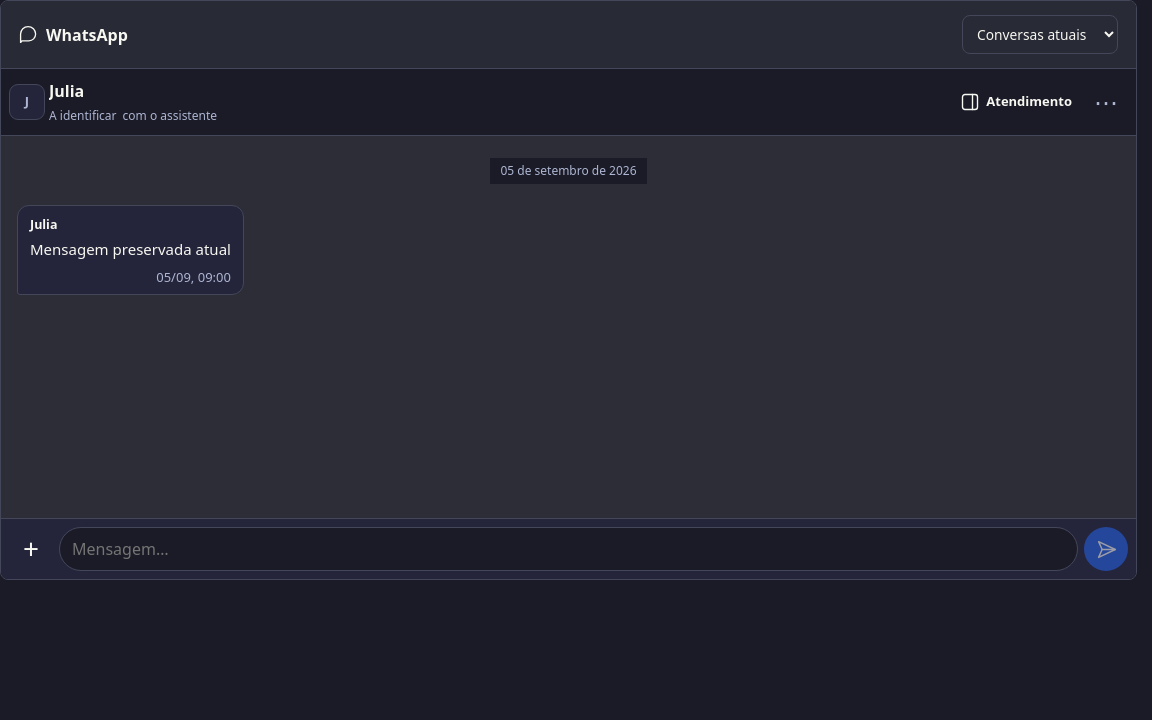
Scenario: empresa mostra Julia atual uma vez e consulta legado sem misturar mensagens nem perder rascunho
Expected: the element with test id "balao-m-atual" is shown, [17,200,244,300]
Type "Rascunho para Julia" into the text box named "Responder ao cliente" at (568,549), box [59,527,1078,571]
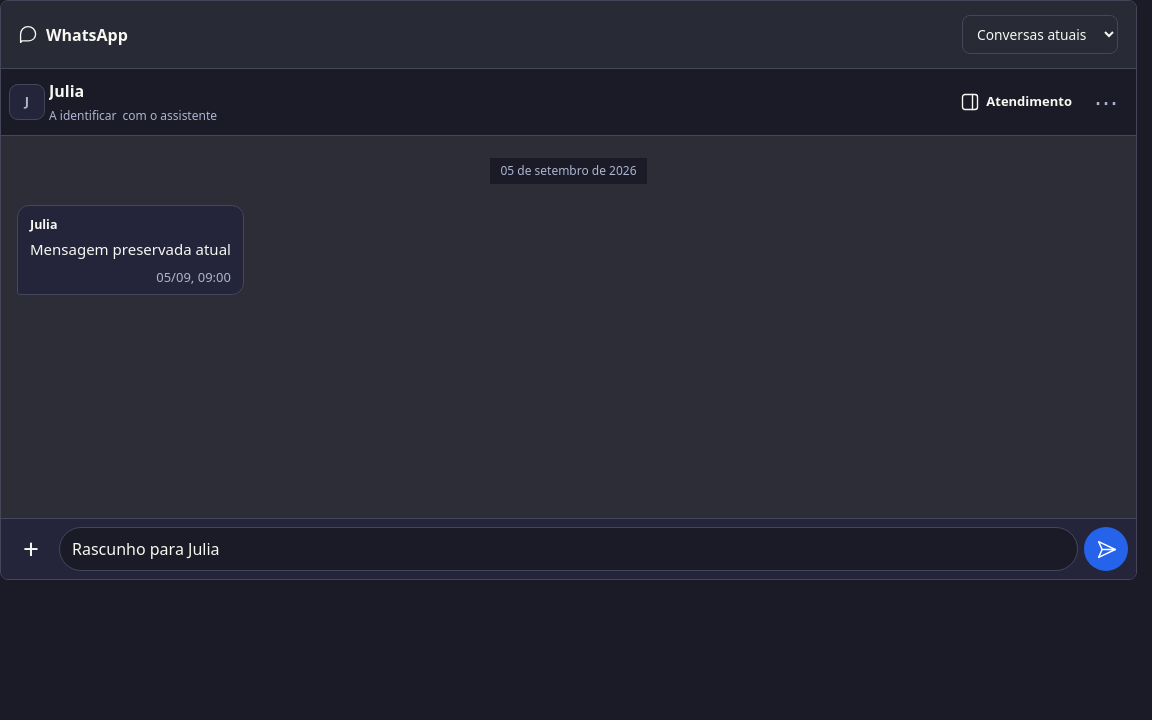
Select "Histórico anterior" in the dropdown named "Visualização das conversas da empresa" at (1040,34), box [962,15,1118,54]
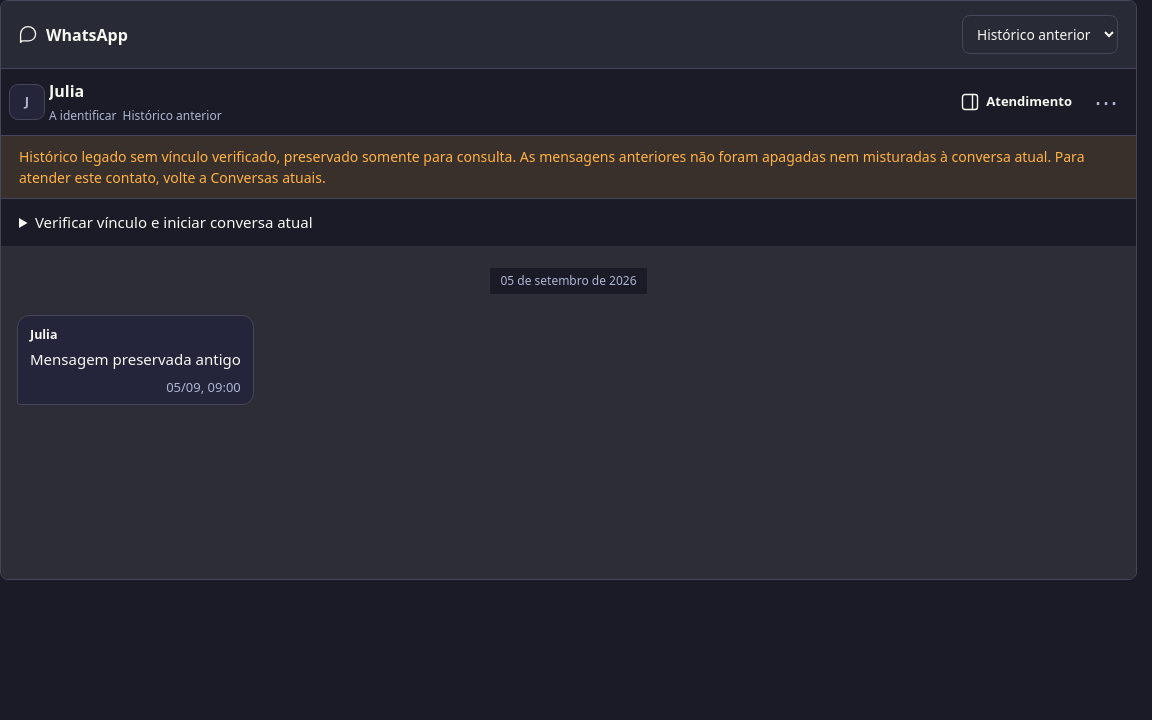
Expected: the element with test id "balao-m-antigo" is shown, [17,310,254,410]
Click the heading named "Mais ações da conversa" at (1106,102), box [1094,85,1118,118]
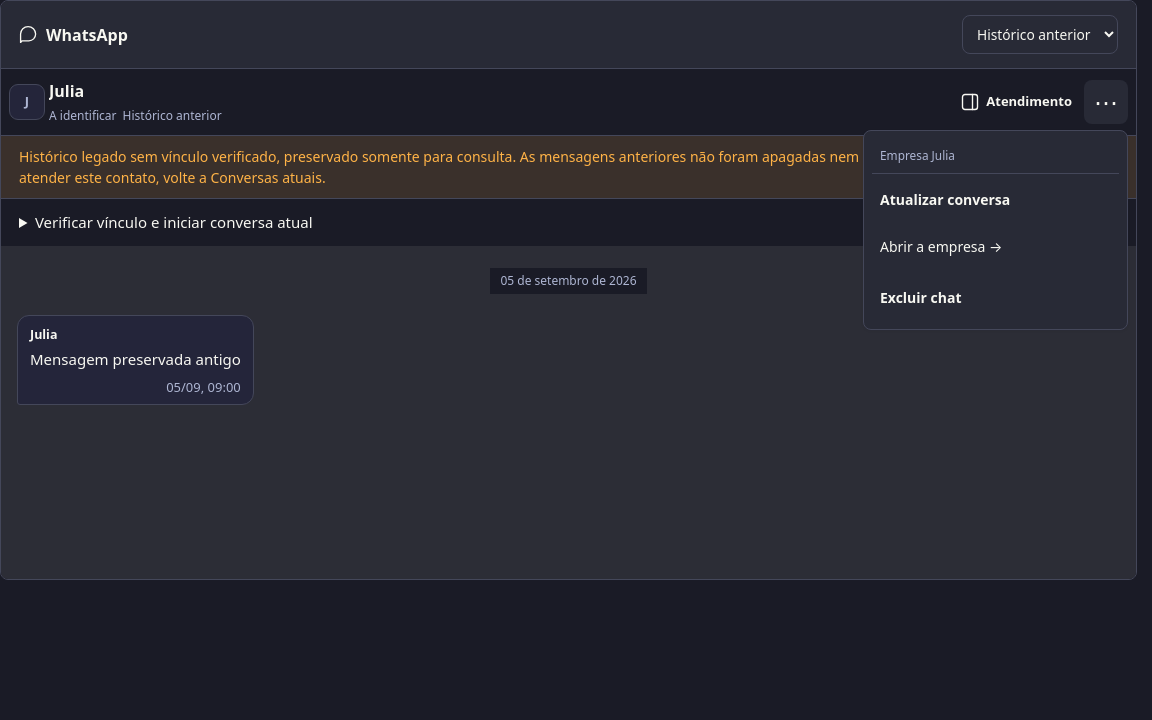
Expected: the heading "Verificar vínculo e iniciar conversa atual" is shown, [35,212,313,232]
Select "Conversas atuais" in the dropdown named "Visualização das conversas da empresa" at (1040,34), box [962,15,1118,54]
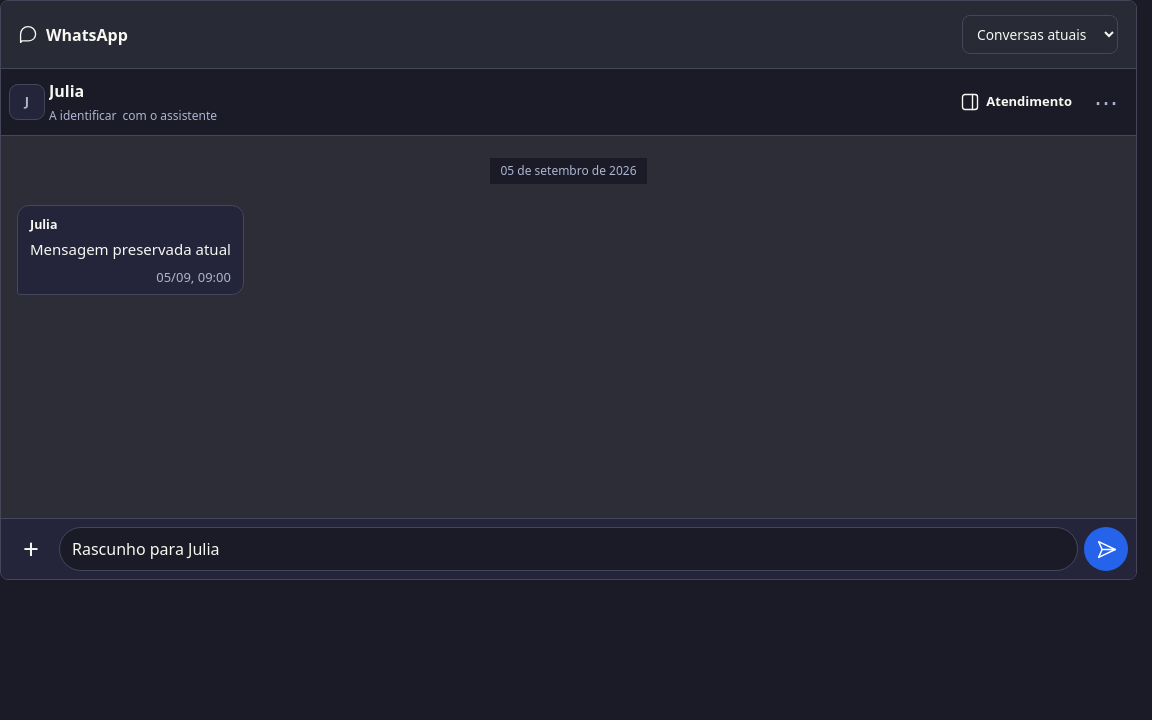
Expected: the element with test id "balao-m-atual" is shown, [17,200,244,300]
Expected: the text box named "Responder ao cliente" holds "Rascunho para Julia", [59,527,1078,571]
